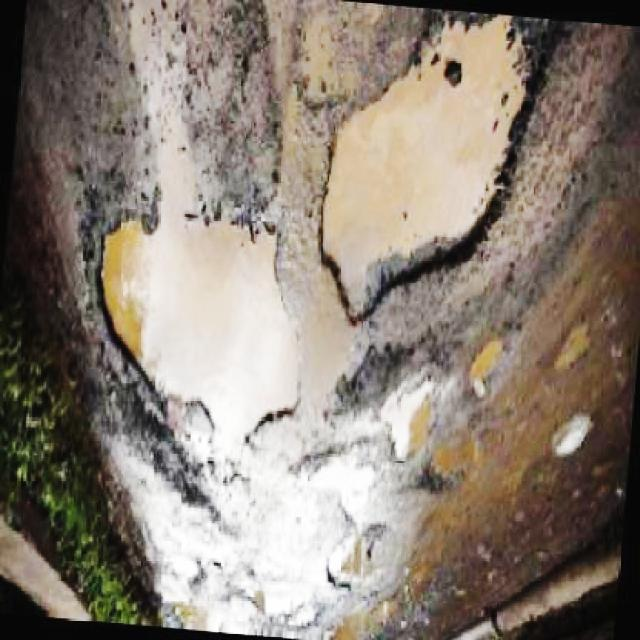pothole: (318, 6, 568, 320), (94, 205, 303, 463), (289, 444, 383, 590), (165, 568, 312, 637), (379, 368, 446, 463), (420, 430, 486, 488), (466, 334, 514, 392), (557, 318, 592, 371)
